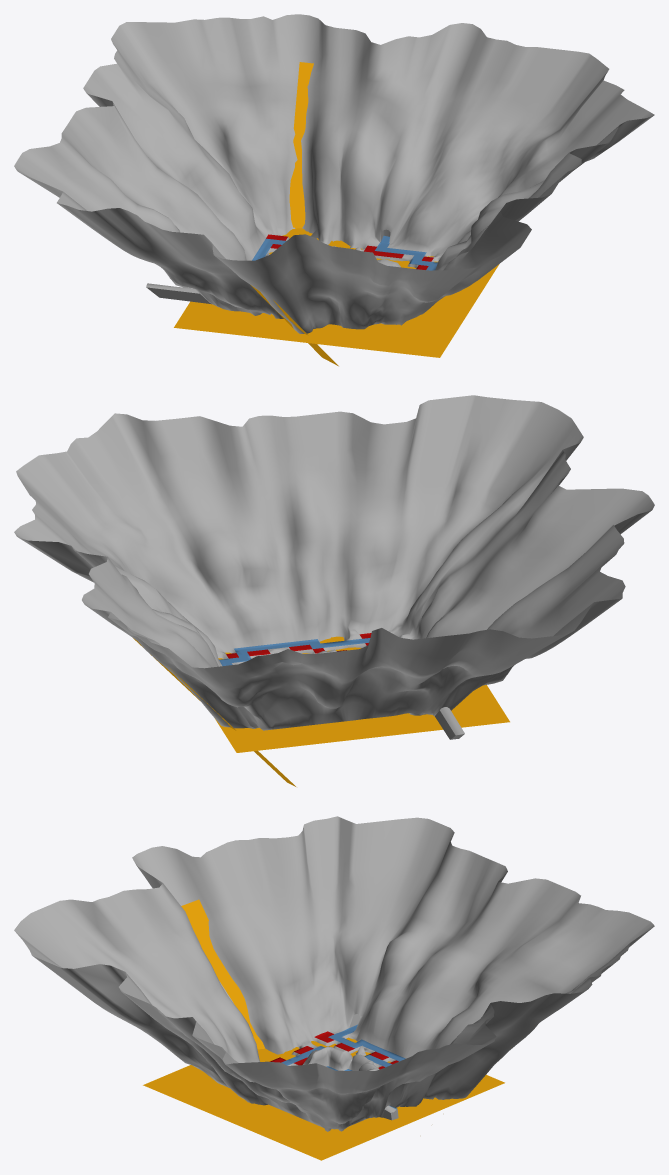
The model's file is Volcano_Level.fbx.
The picture shows the model from 3 angles, top to bottom: view 1: azimuth 30°, elevation 25°; view 2: azimuth 150°, elevation 25°; view 3: azimuth 270°, elevation 25°; orthographic projection. The views are drawn at different scales.
Parts seen in each view (by area): view 1: pPlane2, pPlane3, pPlane4; view 2: pPlane2, pPlane3; view 3: pPlane2, pPlane3, pPlane5.
Part boxes in pixels (x1,y1,x2,y2): pPlane2: [14, 14, 654, 333]; pPlane3: [174, 228, 499, 357]; pPlane4: [289, 62, 313, 228]; pPlane2: [14, 395, 654, 739]; pPlane3: [215, 636, 509, 752]; pPlane2: [14, 816, 654, 1131]; pPlane3: [143, 1037, 504, 1160]; pPlane5: [181, 899, 265, 1049].
Bounding box in the file's own units: 62.33 × 23.04 × 66.25.
